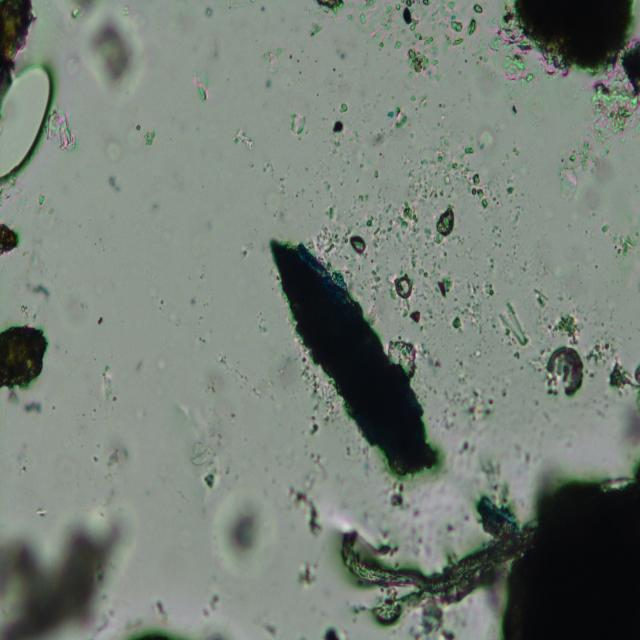Air bubble: (0, 63, 55, 185)
Background material: (502, 457, 640, 638), (0, 494, 139, 640), (493, 1, 637, 79), (555, 84, 640, 203), (71, 0, 147, 106), (481, 173, 546, 280), (217, 486, 283, 583), (471, 457, 527, 539), (186, 348, 258, 411), (407, 137, 473, 198), (361, 597, 456, 639), (0, 318, 52, 394), (343, 125, 391, 201), (0, 1, 42, 84), (605, 359, 640, 454), (184, 422, 228, 497), (345, 0, 404, 53), (440, 385, 500, 435), (367, 196, 425, 247), (123, 596, 186, 639), (542, 343, 587, 400), (286, 478, 324, 538), (495, 300, 533, 359), (18, 188, 57, 245), (464, 275, 498, 327), (263, 166, 293, 224), (387, 331, 423, 378), (45, 108, 81, 154), (65, 293, 109, 330), (317, 204, 345, 257), (405, 33, 438, 77), (380, 472, 410, 518), (434, 2, 463, 47), (464, 164, 490, 211), (620, 41, 640, 100), (551, 312, 583, 347), (100, 438, 132, 472), (93, 133, 125, 166), (588, 334, 622, 364), (3, 444, 34, 476), (432, 200, 458, 238), (305, 381, 321, 439), (0, 220, 22, 261), (609, 230, 640, 259), (260, 44, 284, 80), (178, 286, 202, 316), (346, 228, 368, 260), (433, 273, 457, 302), (400, 1, 422, 32), (27, 281, 54, 305), (286, 109, 308, 138), (385, 104, 408, 130), (299, 560, 319, 589), (233, 125, 255, 151), (234, 233, 254, 260), (448, 313, 468, 340), (476, 129, 498, 153), (102, 366, 115, 404), (203, 591, 220, 618), (196, 70, 210, 102), (315, 0, 343, 14), (140, 126, 156, 149), (260, 618, 278, 638), (596, 218, 617, 235), (22, 401, 44, 417), (534, 288, 549, 311), (407, 306, 424, 326), (149, 194, 163, 217), (152, 352, 168, 372), (330, 117, 345, 138), (467, 17, 481, 39), (104, 175, 122, 192), (308, 24, 320, 39), (508, 102, 519, 117), (204, 1, 212, 20), (473, 2, 485, 13), (339, 104, 349, 115)
Cellulose filter fibre: (341, 524, 530, 596)
Fragment: (268, 238, 441, 478)
